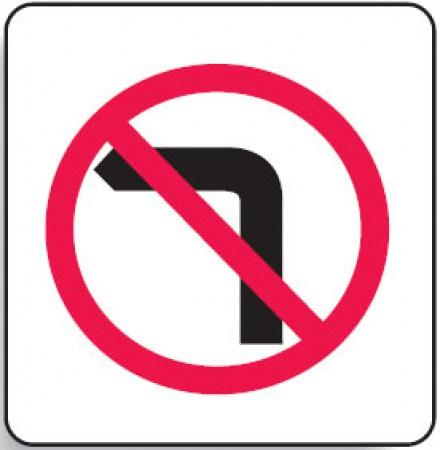no_left_turn: (44, 63, 388, 392)
